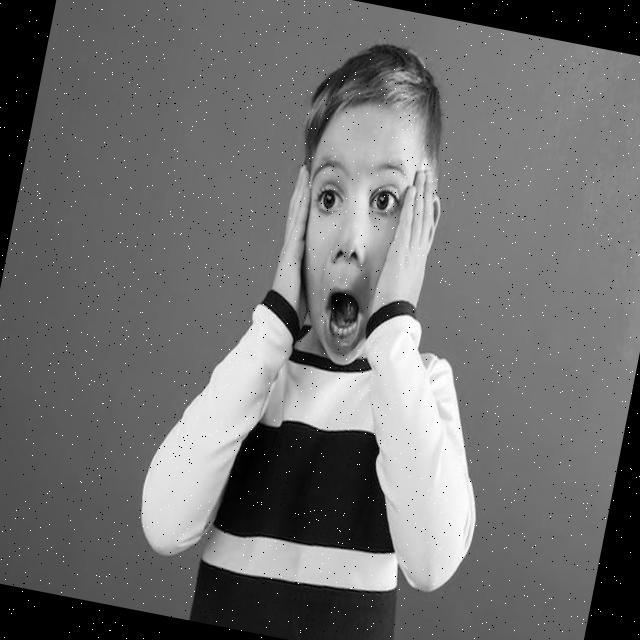Fear: (275, 92, 438, 374)
